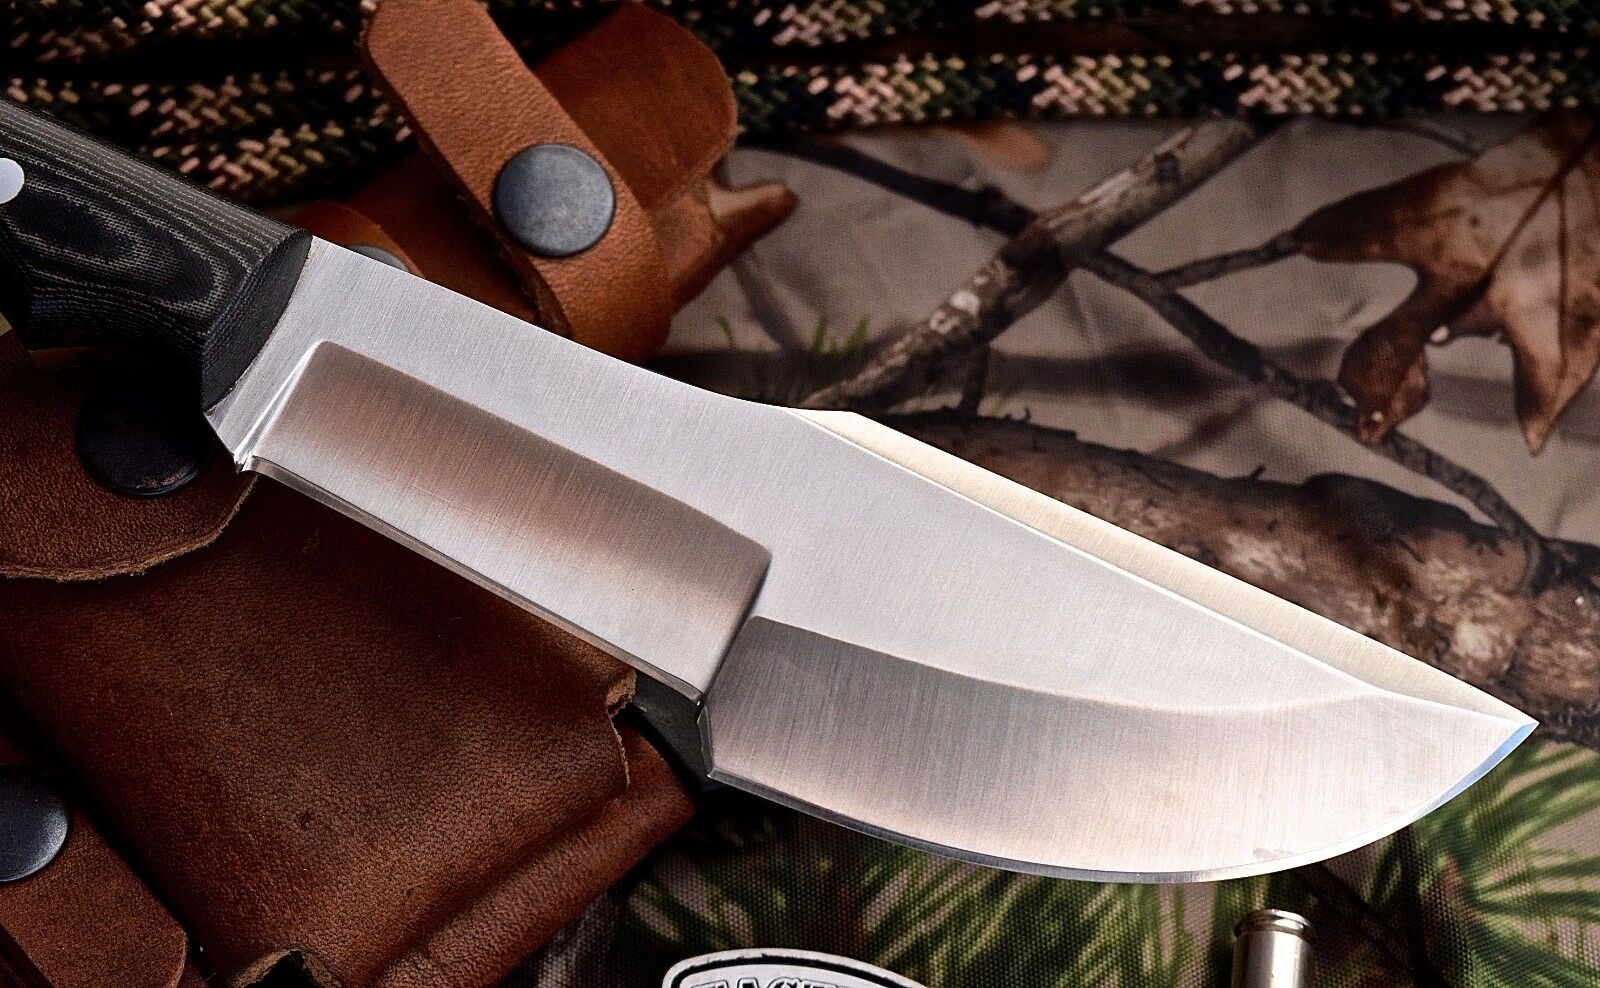knief: (31, 73, 1547, 901)
